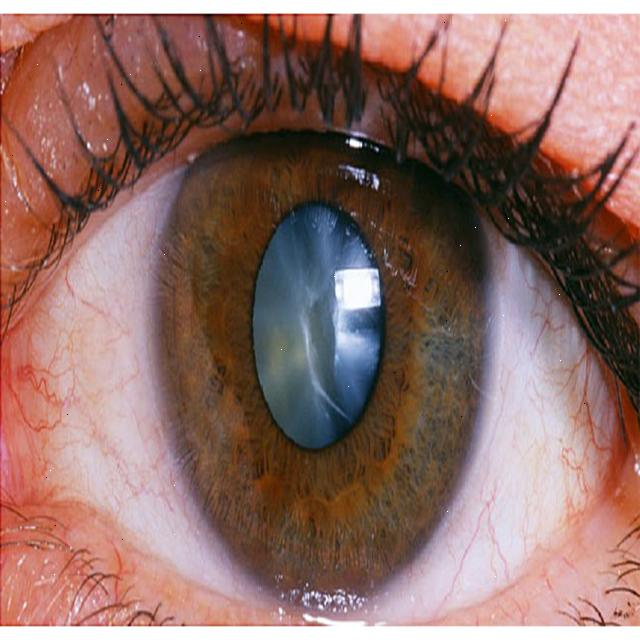Cataract: (152, 41, 492, 618)
